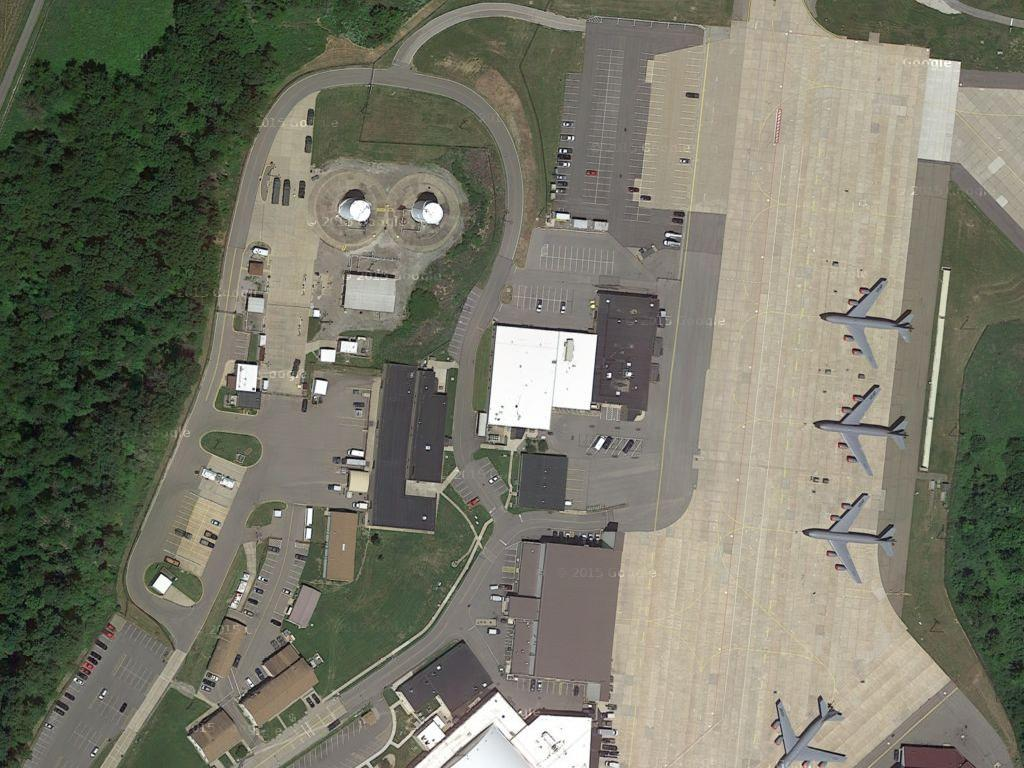KC-135: (813, 274, 916, 370), (813, 382, 917, 477), (797, 492, 902, 583), (768, 690, 850, 768)
